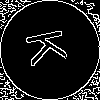K: (25, 25, 77, 67)
